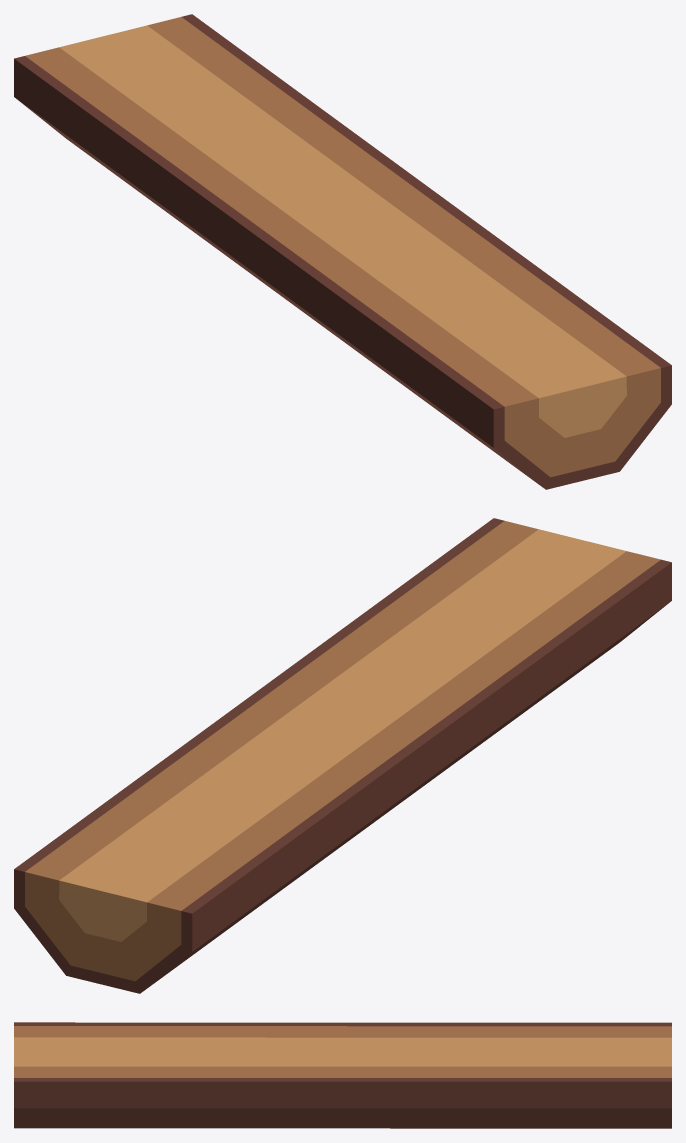
The model's file is wood_half_plain.fbx.
The picture shows the model from 3 angles, top to bottom: view 1: azimuth 30°, elevation 25°; view 2: azimuth 150°, elevation 25°; view 3: azimuth 270°, elevation 25°; orthographic projection. The views are drawn at different scales.
Visible parts, largest first — view 1: Deck_half; view 2: Deck_half; view 3: Deck_half.
Part boxes in pixels (bbox=[...]): Deck_half: bbox=[14, 14, 671, 489]; Deck_half: bbox=[14, 518, 671, 993]; Deck_half: bbox=[14, 1022, 671, 1128].
Size of the model in its own units: 25.24 by 12.71 by 118.
